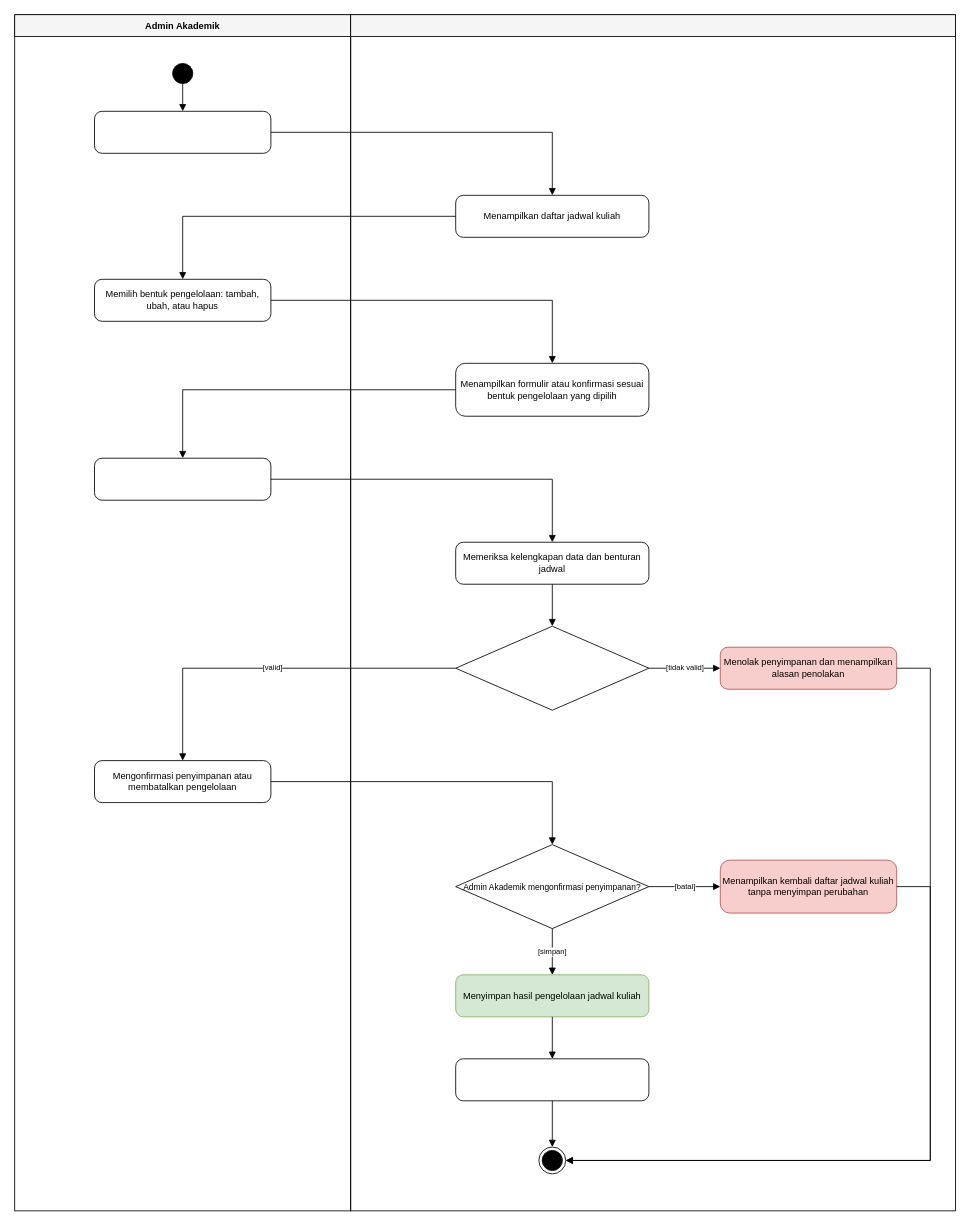
This 970x1226 diagram has some shape labels left out. The centre of each missing label's shape, as x and y in pixels:
"Data lengkap dan tidak bentrok?" belongs at point (552, 667).
"Membuka fungsi Kelola Jadwal Kuliah" belongs at point (182, 131).
"Menampilkan konfirmasi hasil pengelolaan" belongs at point (552, 1079).
"Mengisi atau mengonfirmasi data jadwal kuliah" belongs at point (182, 478).
"Sistem" belongs at point (653, 25).
